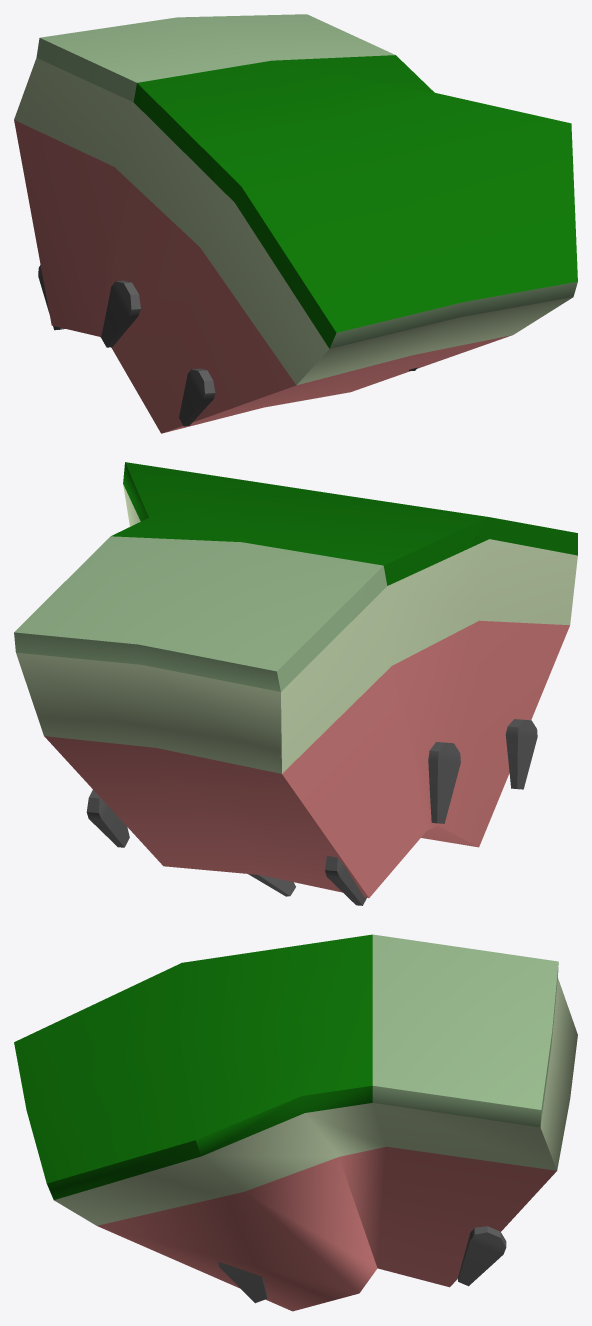
Rendered from Chunk02.fbx.
The picture shows the model from 3 angles, top to bottom: view 1: azimuth 30°, elevation 25°; view 2: azimuth 150°, elevation 25°; view 3: azimuth 270°, elevation 25°; orthographic projection. The views are drawn at different scales.
Parts seen in each view (by area): view 1: Chonk_02; view 2: Chonk_02; view 3: Chonk_02.
Boxes of the visible parts, x1,y1,x2,y2 form: Chonk_02: [14, 14, 577, 433]; Chonk_02: [14, 462, 577, 905]; Chonk_02: [14, 934, 577, 1311].
Size of the model in its own units: 7.64 by 6.1 by 10.39.
